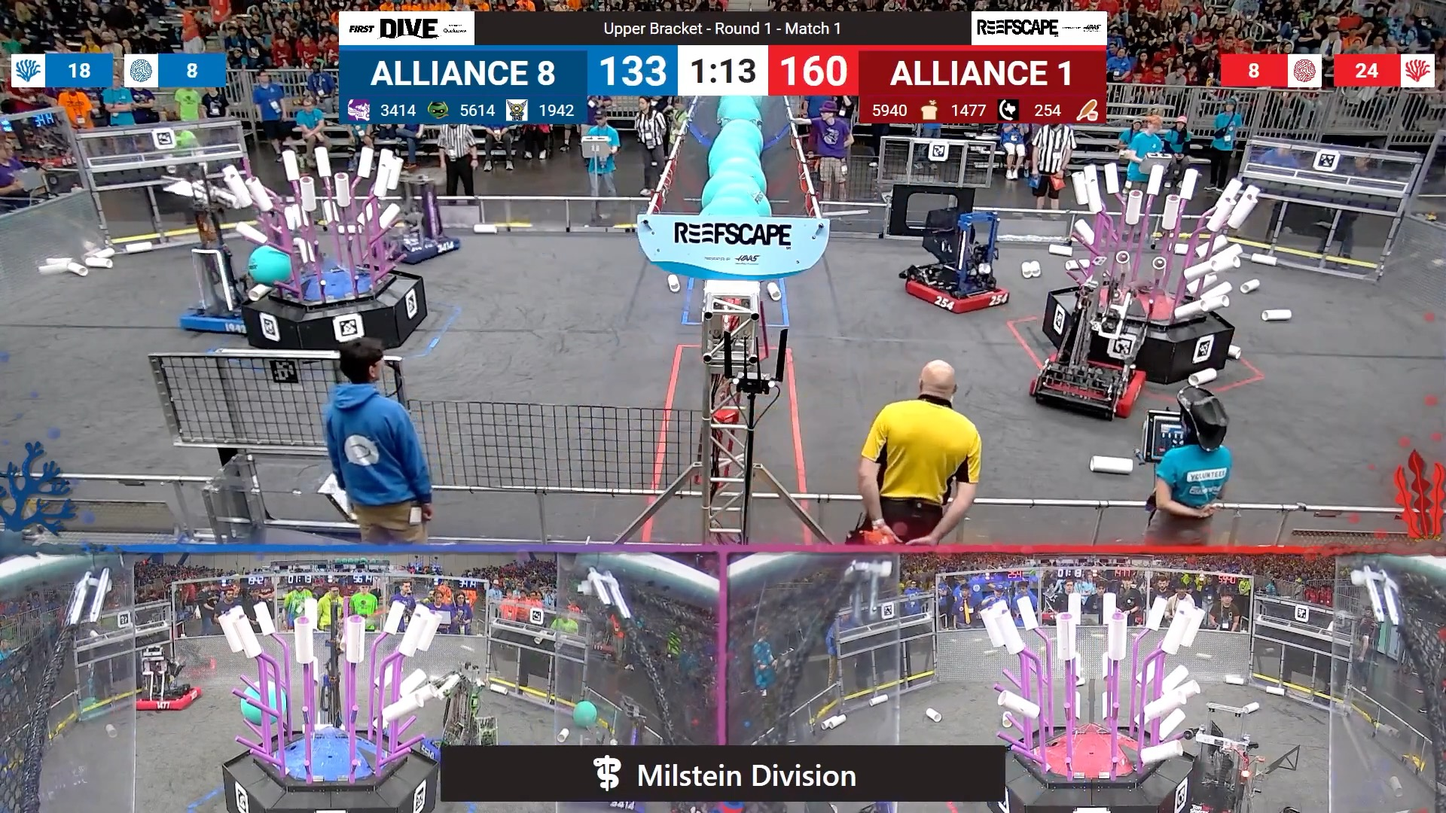bumpers: (1024, 351, 1152, 419), (897, 266, 1018, 317), (368, 231, 468, 270), (178, 291, 258, 339), (129, 684, 207, 717)
